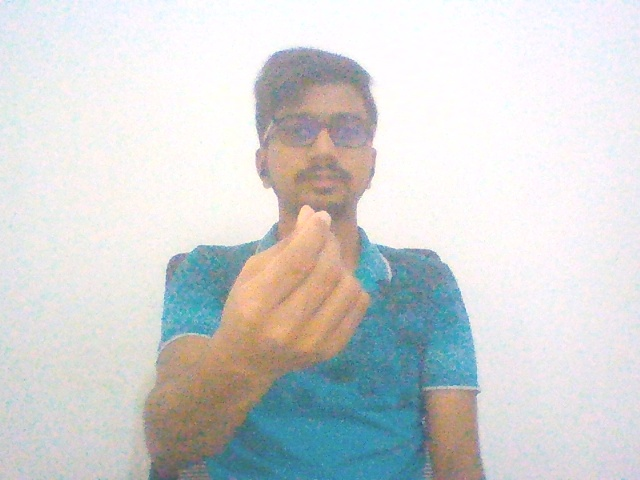dog: (187, 189, 392, 396)
